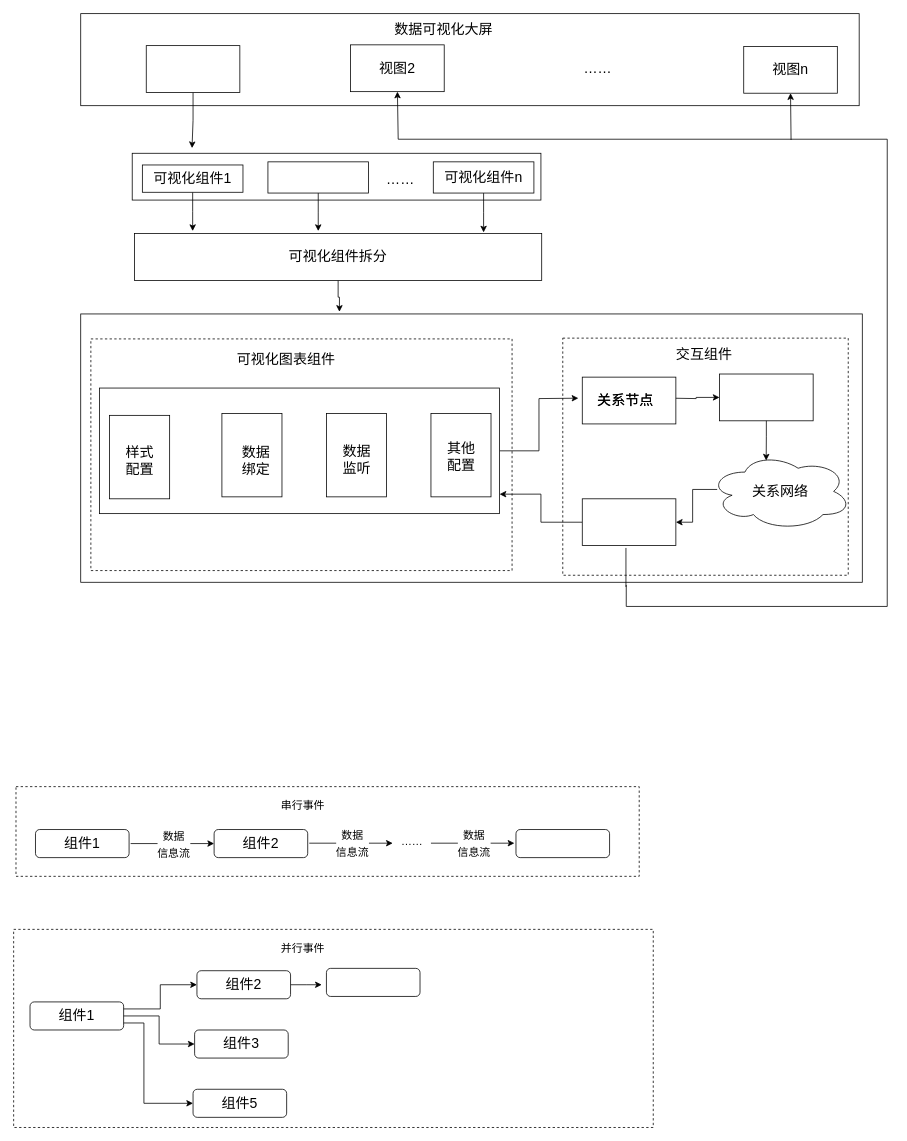
Image size: 907x1141. Some labels were removed from this diagram. Here are the shapes that lost their labels. From the top down, the centre of each, then its label:
point 192,68: 视图1
point 318,177: 可视化组件2
point 766,397: 关系解析
point 628,522: 事件
point 562,843: 组件n
point 373,982: 组件4
